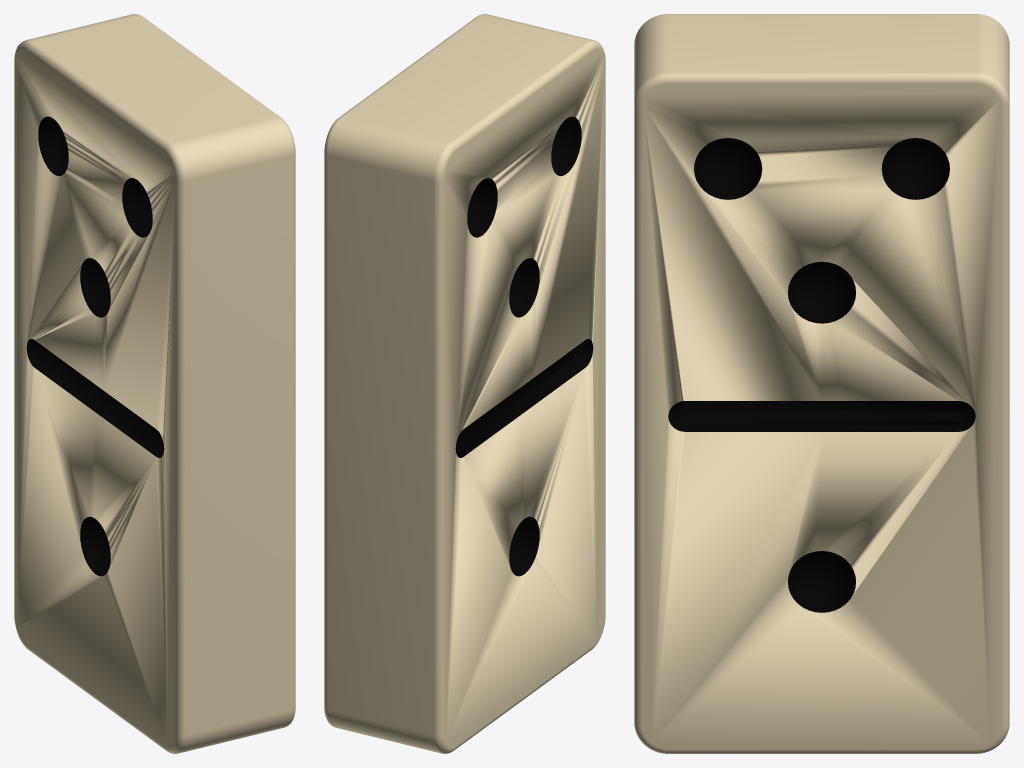
Rendered from dominos.glb.
3 views of the same model, side by side, from view 1: azimuth 30°, elevation 25°; view 2: azimuth 150°, elevation 25°; view 3: azimuth 270°, elevation 25° (orthographic). The views are drawn at different scales.
Parts seen in each view (by area): view 1: domino.001; view 2: domino.001; view 3: domino.001.
Boxes of the visible parts, x1,y1,x2,y2 form: domino.001: [14, 14, 295, 753]; domino.001: [324, 14, 605, 753]; domino.001: [634, 14, 1009, 753].
Size of the model in its own units: 0.45 by 2.2 by 1.1.
